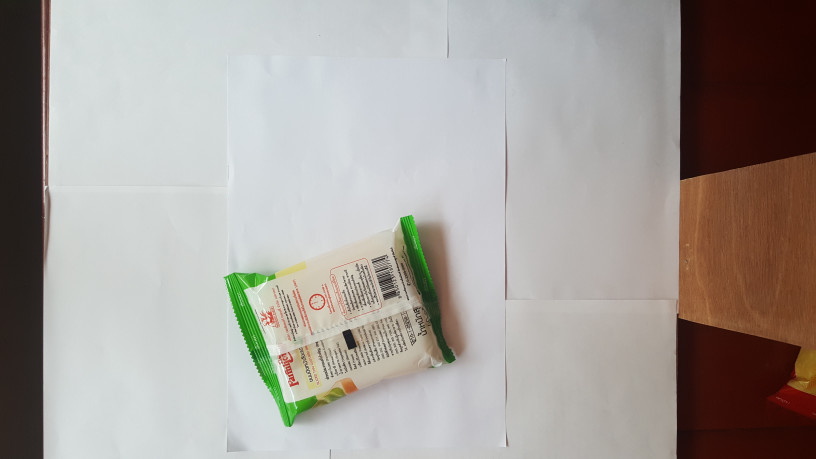farmhouse-bread-pandan: (217, 209, 461, 430)
